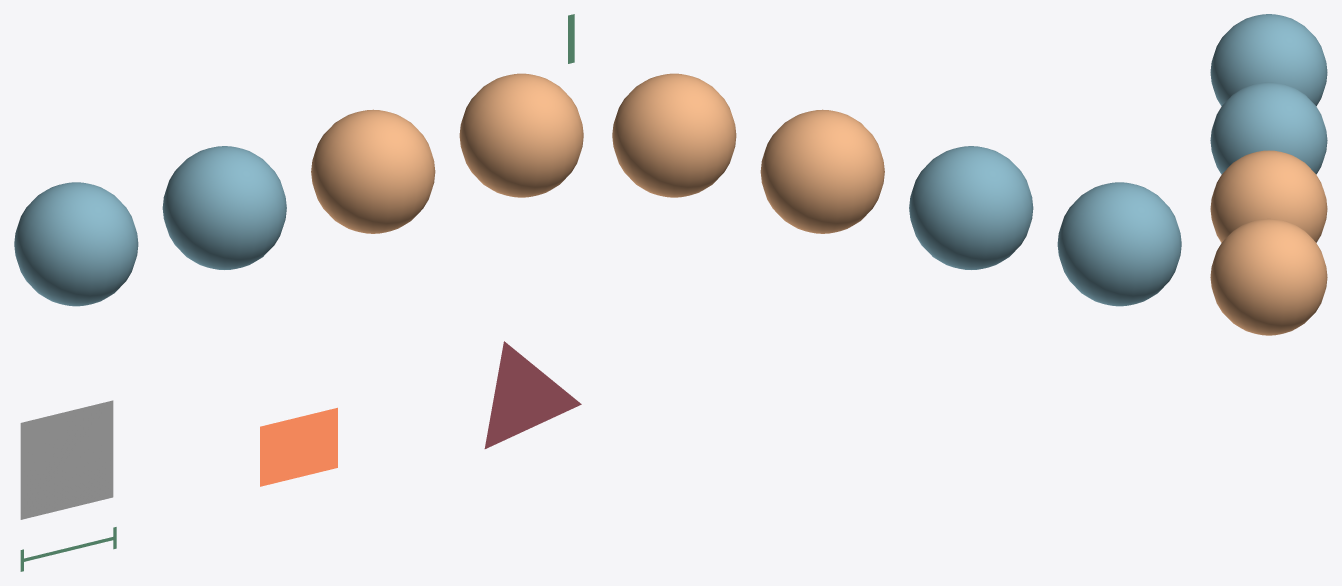
File: Reference.gltf
The picture shows the model from 3 angles, left to right: view 1: azimuth 30°, elevation 25°; view 2: azimuth 150°, elevation 25°; view 3: azimuth 270°, elevation 25°; orthographic projection. The views are drawn at different scales.
Visible parts, largest first — view 1: Matte dielectric, Smooth copper, Matte copper, Smooth dielectric, Neutral 1 m receiver, +X slanted edge, HDR emissive chip; view 2: Matte dielectric, Smooth copper, Matte copper, Smooth dielectric; view 3: Smooth copper, Smooth dielectric, Matte dielectric, Matte copper.
Boxes of the visible parts, x1,y1,x2,y2 form: Matte dielectric: (14, 182, 138, 306); Smooth copper: (459, 73, 583, 197); Matte copper: (311, 109, 435, 233); Smooth dielectric: (162, 146, 286, 269); Neutral 1 m receiver: (20, 400, 113, 519); +X slanted edge: (484, 341, 581, 448); HDR emissive chip: (260, 407, 337, 486); Matte dielectric: (1057, 182, 1181, 306); Smooth copper: (612, 73, 736, 197); Matte copper: (760, 109, 884, 233); Smooth dielectric: (909, 146, 1033, 269); Smooth copper: (1210, 218, 1327, 335); Smooth dielectric: (1210, 82, 1327, 174); Matte dielectric: (1210, 14, 1327, 106); Matte copper: (1210, 150, 1327, 242).
Size of the model in its own units: 6.05 by 4.35 by 1.16.
